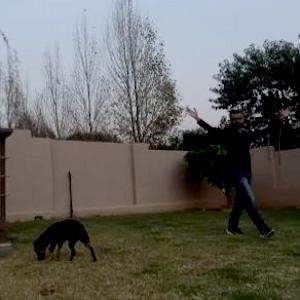takeoff: (178, 105, 282, 240)
